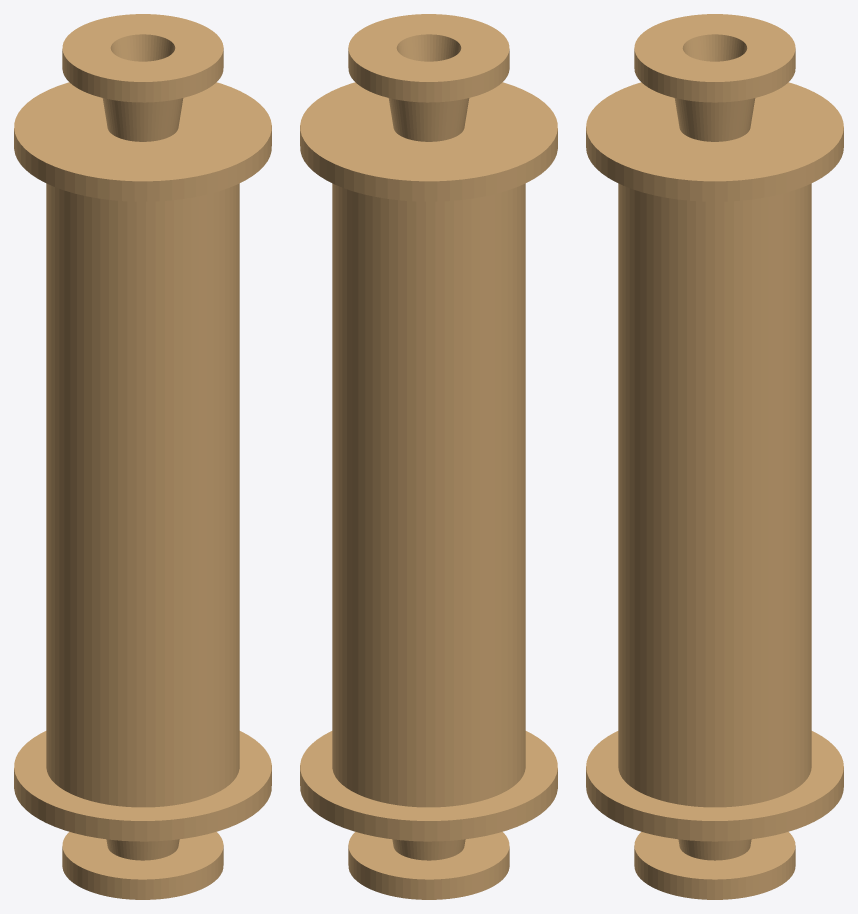
Rendered from board.glb.
3 views of the same model, side by side, from view 1: azimuth 30°, elevation 25°; view 2: azimuth 150°, elevation 25°; view 3: azimuth 270°, elevation 25° (orthographic).
Parts seen in each view (by area): view 1: Bare_Via_Tube_1, Unified_Net_1_Island_0 (×4), Bare_Via_Tube_0, Bare_Via_Tube_2; view 2: Bare_Via_Tube_1, Unified_Net_1_Island_0 (×4), Bare_Via_Tube_0, Bare_Via_Tube_2; view 3: Bare_Via_Tube_1, Unified_Net_1_Island_0 (×4), Bare_Via_Tube_0, Bare_Via_Tube_2.
Part boxes in pixels (left/top/right/bottom): Bare_Via_Tube_1: left=46, top=183, right=239, bottom=807; Unified_Net_1_Island_0 (×4): left=14, top=14, right=271, bottom=899; Bare_Via_Tube_0: left=102, top=34, right=183, bottom=141; Bare_Via_Tube_2: left=106, top=839, right=179, bottom=860; Bare_Via_Tube_1: left=332, top=183, right=525, bottom=807; Unified_Net_1_Island_0 (×4): left=300, top=14, right=557, bottom=899; Bare_Via_Tube_0: left=388, top=34, right=469, bottom=141; Bare_Via_Tube_2: left=392, top=839, right=465, bottom=860; Bare_Via_Tube_1: left=618, top=183, right=811, bottom=807; Unified_Net_1_Island_0 (×4): left=586, top=14, right=843, bottom=899; Bare_Via_Tube_0: left=674, top=34, right=755, bottom=141; Bare_Via_Tube_2: left=678, top=839, right=751, bottom=860.
Size of the model in its own units: 0.0004 by 0.0014 by 0.0004.
